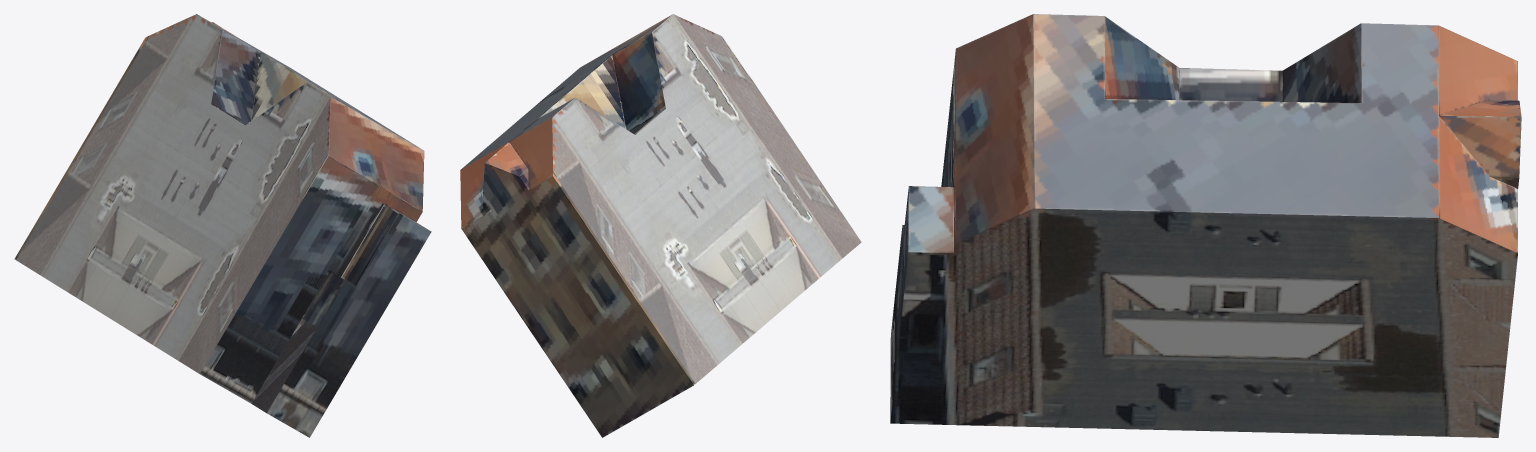
3 views of the same model, side by side, from view 1: azimuth 30°, elevation 25°; view 2: azimuth 150°, elevation 25°; view 3: azimuth 270°, elevation 25° (orthographic). The views are drawn at different scales.
Parts seen in each view (by area): view 1: BAG_0599100000670796 (×5); view 2: BAG_0599100000670796 (×5); view 3: BAG_0599100000670796 (×5).
Boxes of the visible parts, left/top/right/bottom form: BAG_0599100000670796 (×5): left=14, top=14, right=431, bottom=437; BAG_0599100000670796 (×5): left=460, top=14, right=861, bottom=437; BAG_0599100000670796 (×5): left=890, top=14, right=1521, bottom=437.
Size of the model in its own units: 12.85 by 14.25 by 16.92.
1 material, 1 textured.
